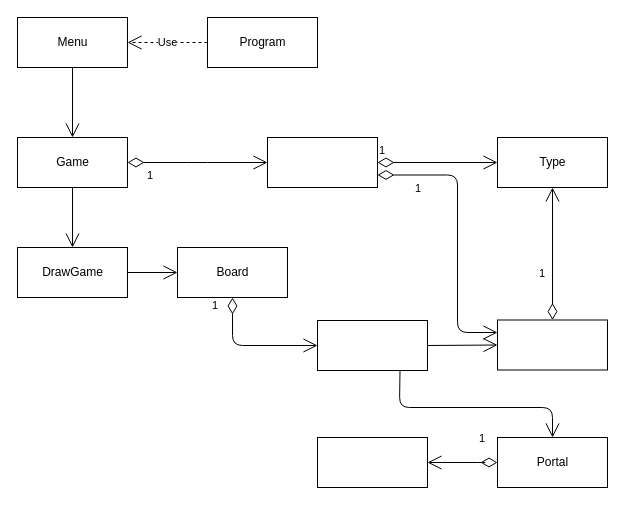
This 625x505 diagram has some shape labels left out. Here are the shapes that lost their labels. From the top down, the centre of each, then its label:
pixel 322 162: Player
pixel 372 345: House
pixel 552 344: Ghost
pixel 372 462: Rotation
